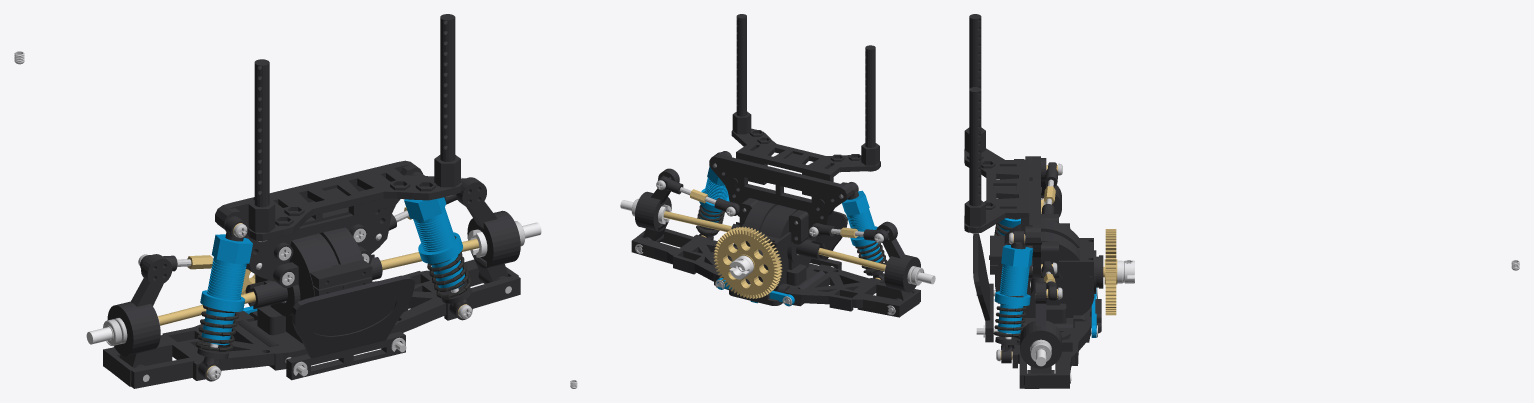
The model's file is hsp_B.glb.
The picture shows the model from 3 angles, left to right: view 1: azimuth 30°, elevation 25°; view 2: azimuth 150°, elevation 25°; view 3: azimuth 270°, elevation 25°; orthographic projection. The views are drawn at different scales.
Visible parts, largest first — view 1: n8, n57, n10, n35, n55, n19, n20, n0, n9, n11, n12, n1 (+11 smaller); view 2: n55, n10, n34, n57, n50, n9, n19, n12, n11, n20, n0, n8 (+11 smaller); view 3: n34, n57, n9, n1, n12, n20, n55, n8, n11, n50, n35, n63 (+2 smaller).
Boxes of the visible parts, x1,y1,x2,y2 form: n8: (286, 275, 414, 380); n57: (247, 164, 462, 241); n10: (103, 311, 299, 388); n35: (273, 227, 372, 343); n55: (215, 160, 422, 281); n19: (107, 254, 172, 367); n20: (456, 177, 520, 283); n0: (200, 234, 252, 345); n9: (372, 259, 520, 333); n11: (248, 59, 275, 232); n12: (434, 14, 460, 187); n1: (404, 197, 464, 289); n55: (709, 152, 853, 237); n10: (784, 264, 920, 317); n34: (734, 198, 808, 291); n57: (731, 128, 880, 206); n50: (713, 226, 782, 298); n9: (631, 228, 737, 289); n19: (876, 221, 920, 300); n12: (732, 14, 751, 134); n11: (861, 45, 879, 165); n20: (635, 168, 679, 242); n0: (842, 190, 882, 262); n8: (809, 211, 847, 270); n34: (1041, 214, 1103, 323); n57: (964, 148, 1041, 244); n9: (1012, 321, 1090, 388); n1: (994, 244, 1033, 333); n12: (964, 87, 985, 226); n20: (1020, 282, 1061, 373); n55: (1025, 156, 1040, 277); n8: (973, 233, 993, 342); n11: (964, 14, 985, 152); n50: (1104, 229, 1117, 315); n35: (989, 224, 1035, 317); n63: (993, 295, 1026, 342).
Bounding box in the file's own units: 0.198 × 0.1423 × 0.2637.
